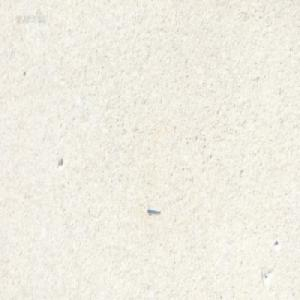Nail: (146, 204, 160, 213)
